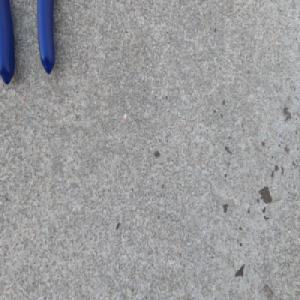Pliers: (0, 0, 59, 89)
